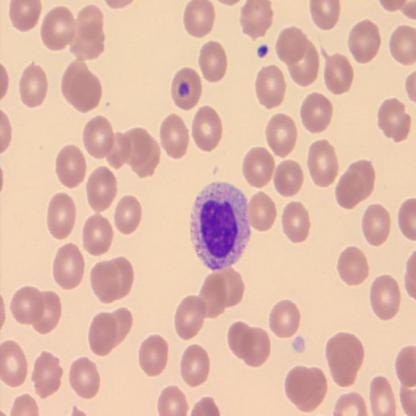Metamyelocyte: (189, 178, 252, 273)
